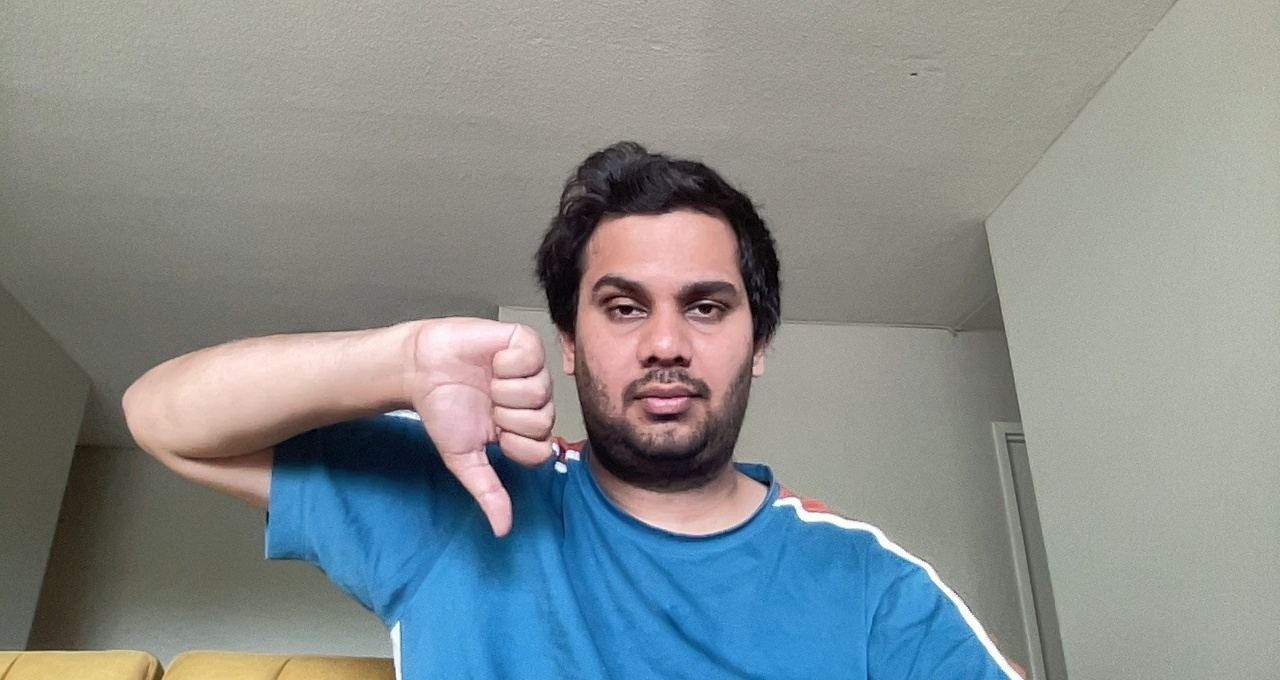thumbsdown: (412, 307, 559, 537)
